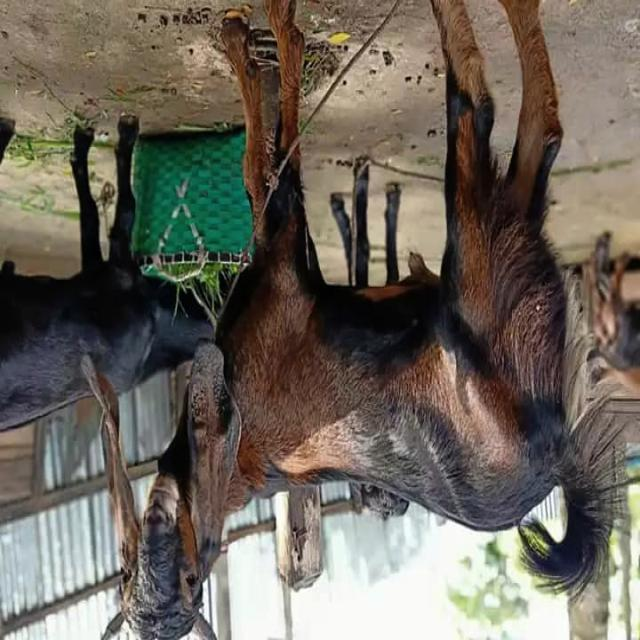Goat: (82, 2, 628, 640), (0, 115, 214, 436)
